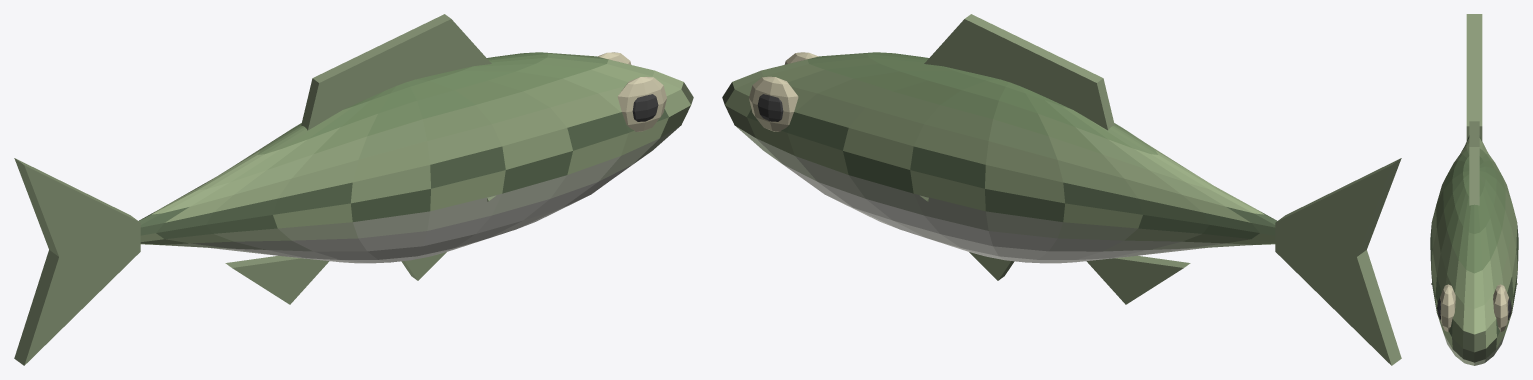
Rendered from LargemouthBass.glb.
3 renders of one model, left to right at view 1: azimuth 30°, elevation 25°; view 2: azimuth 150°, elevation 25°; view 3: azimuth 270°, elevation 25°, orthographic. The views are drawn at different scales.
Parts seen in each view (by area): view 1: LargemouthBass; view 2: LargemouthBass; view 3: LargemouthBass.
Part boxes in pixels (x1,y1,x2,y2): LargemouthBass: (14, 14, 693, 365); LargemouthBass: (722, 14, 1401, 365); LargemouthBass: (1430, 14, 1518, 365).
Size of the model in its own units: 4.11 by 1.48 by 0.5928.
